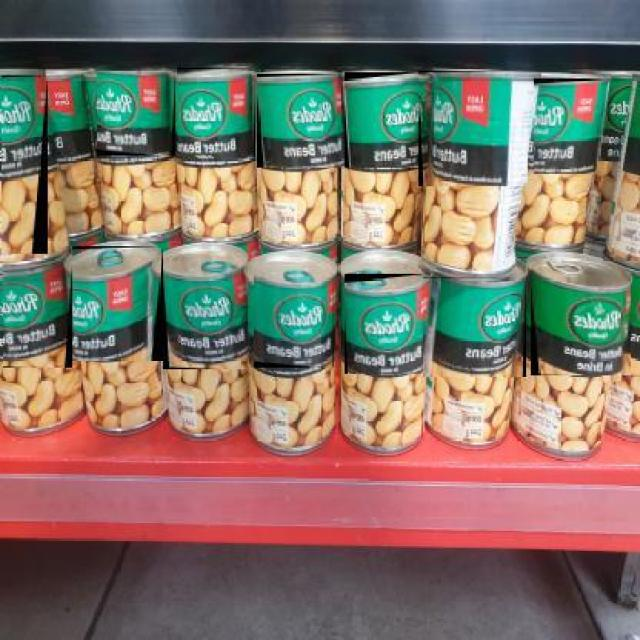Beans: (417, 70, 528, 188), (528, 269, 630, 377), (71, 246, 163, 362), (422, 277, 526, 378), (162, 254, 248, 371), (252, 262, 334, 369), (0, 76, 48, 256), (343, 274, 426, 375), (256, 74, 344, 169), (343, 72, 422, 170), (532, 78, 608, 175), (175, 68, 256, 158), (2, 265, 72, 369), (96, 71, 176, 157)
